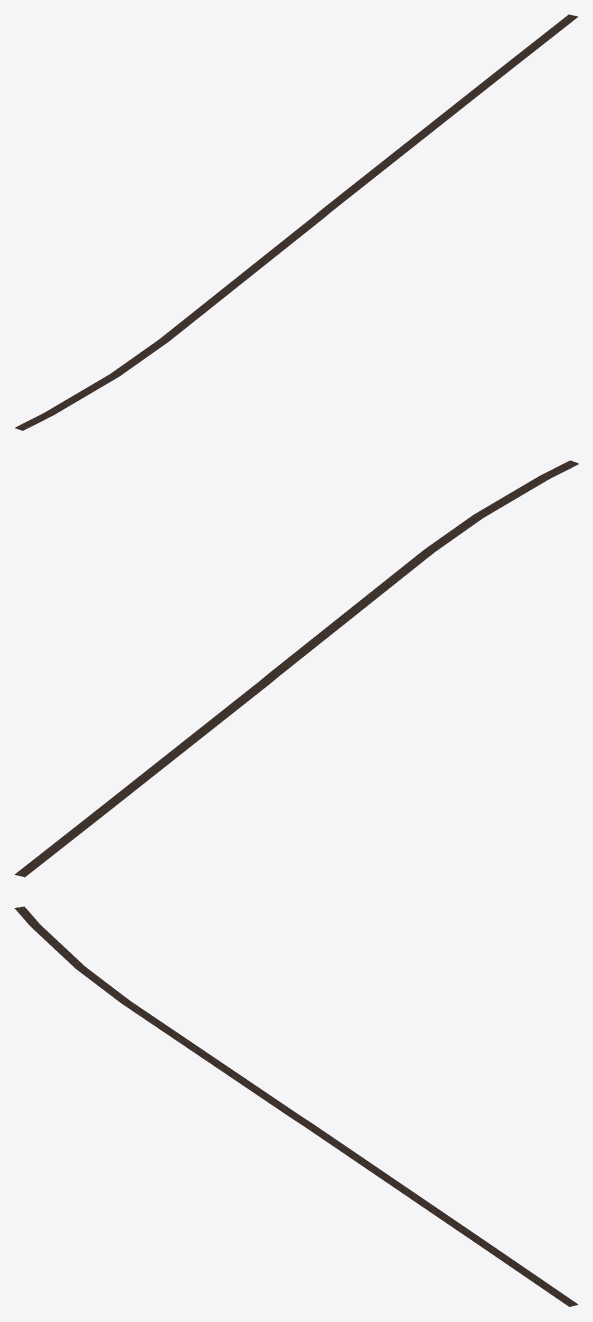
The model's file is kobe_0029.glb.
The picture shows the model from 3 angles, top to bottom: view 1: azimuth 30°, elevation 25°; view 2: azimuth 210°, elevation 25°; view 3: azimuth 270°, elevation 25°; orthographic projection. The views are drawn at different scales.
Parts seen in each view (by area): view 1: ballast_top, oxidised_rail_profiles; view 2: ballast_top, oxidised_rail_profiles, ballast_left; view 3: ballast_top, oxidised_rail_profiles.
Part boxes in pixels (x1,y1,x2,y2): ballast_top: [15, 14, 577, 430]; oxidised_rail_profiles: [16, 15, 576, 429]; ballast_top: [15, 460, 577, 876]; oxidised_rail_profiles: [16, 460, 577, 875]; ballast_left: [24, 463, 578, 877]; ballast_top: [14, 906, 577, 1306]; oxidised_rail_profiles: [16, 907, 576, 1306].
Size of the model in its own units: 653 by 0.819 by 389.
Materials: 4 (3 with a texture image).
